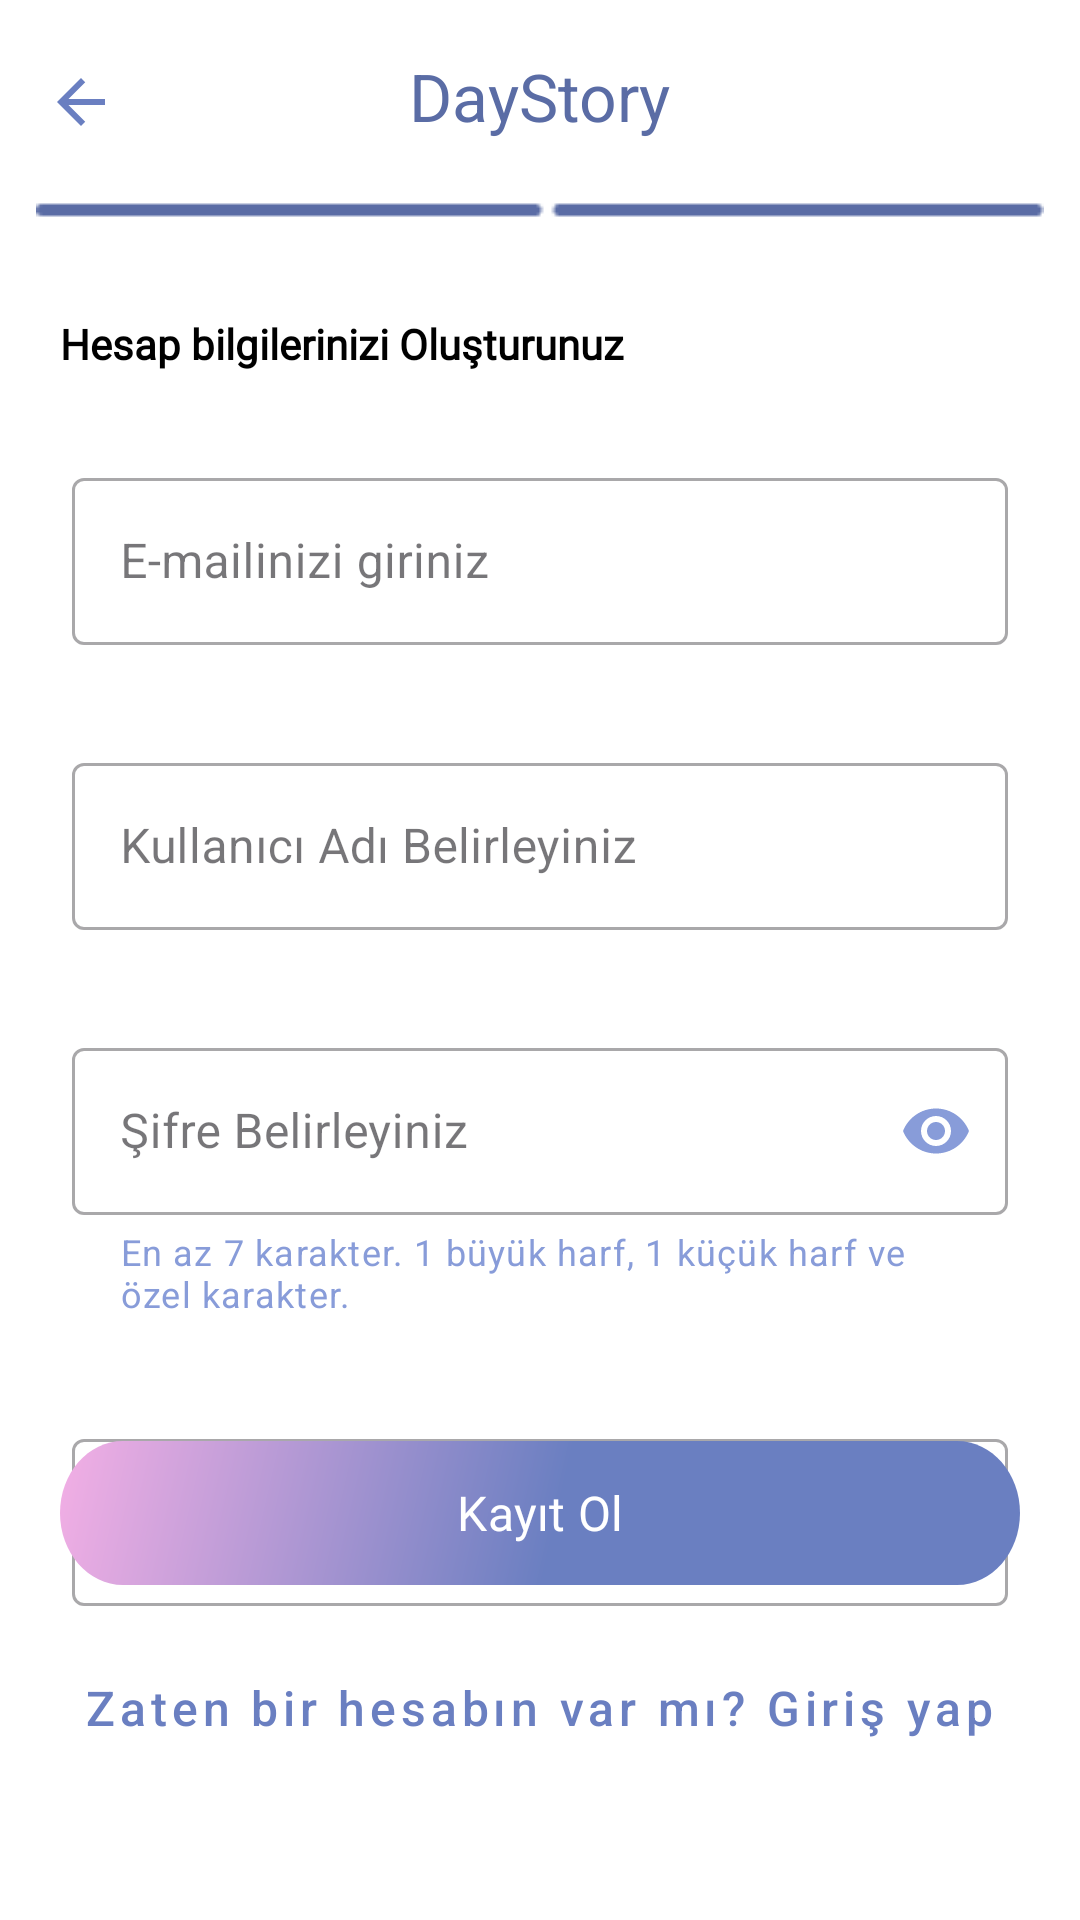

Named icons in this screenshot (1080px x 1920px) and their centers, (x=x, y=y):
back: (x=81, y=102)
